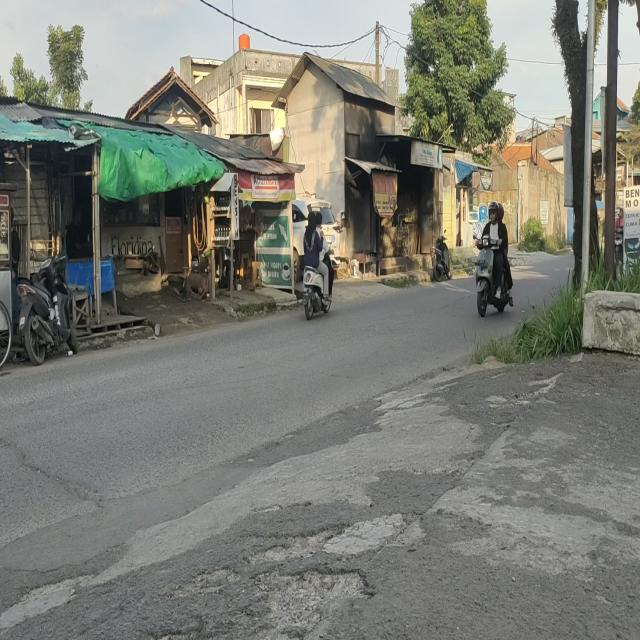helmet: (487, 201, 498, 222), (498, 203, 504, 222)
no-helmet: (307, 212, 317, 228), (316, 212, 324, 225)
